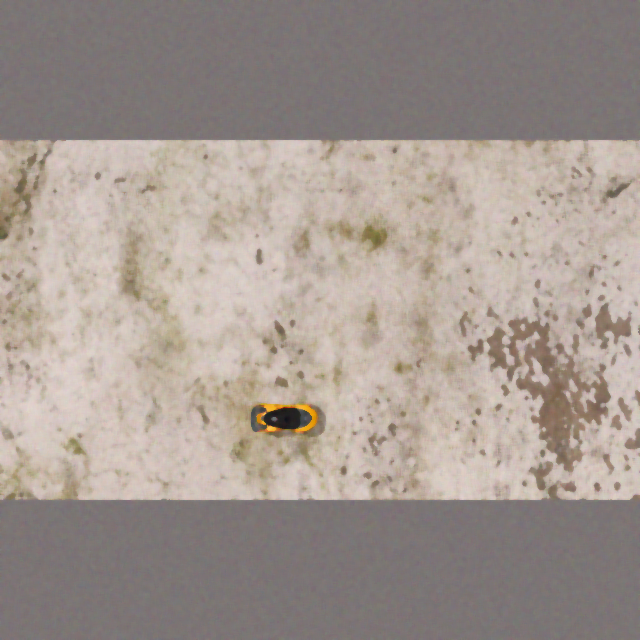car: (250, 401, 318, 434)
